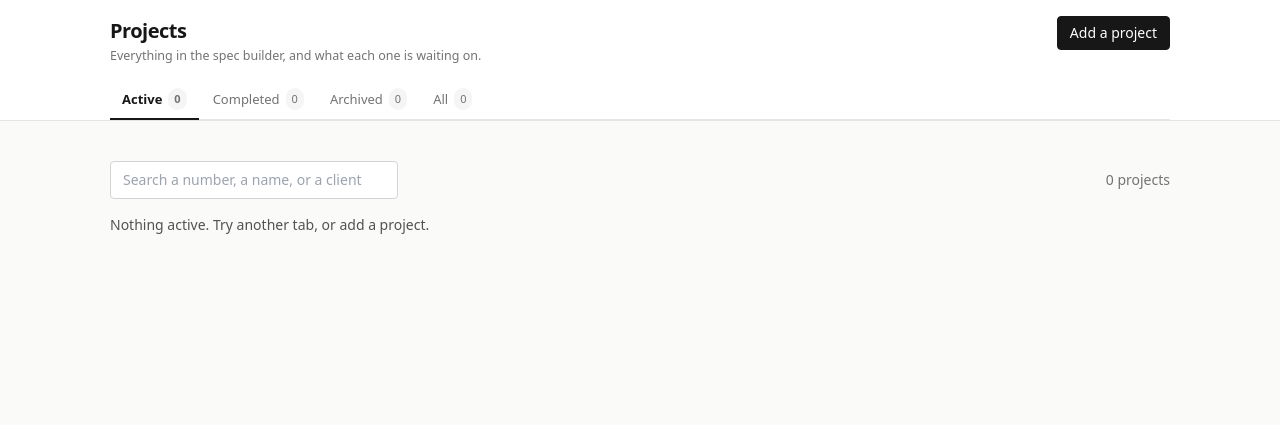
Add project › goes to the new project's page, where its pack is uploaded
The width and height of the screenshot is (1280, 425).
Click the button "Add a project" at (1113, 33), box [1057,16,1170,50]
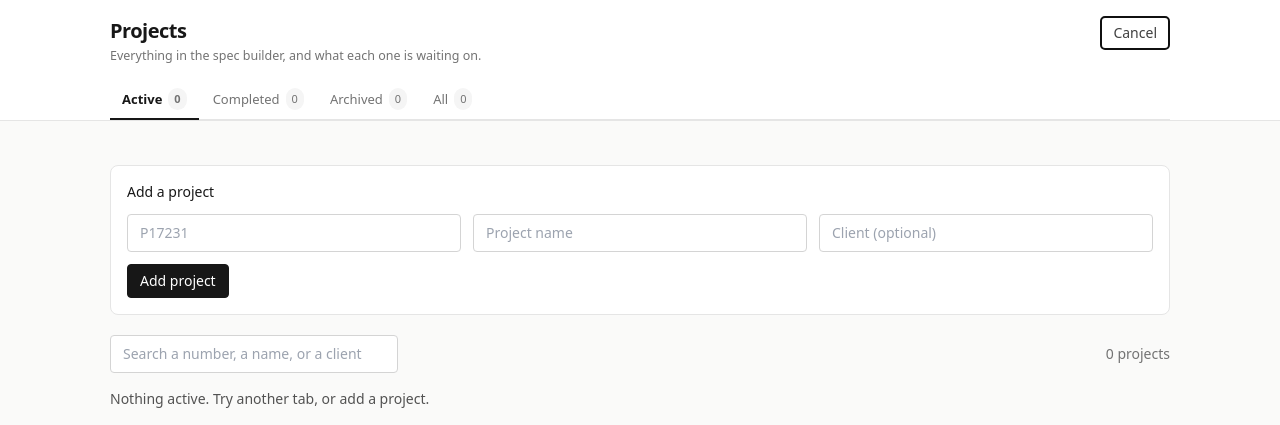
Type "P90300" into the field named "BWS project number" at (294, 233), box [127,214,461,252]
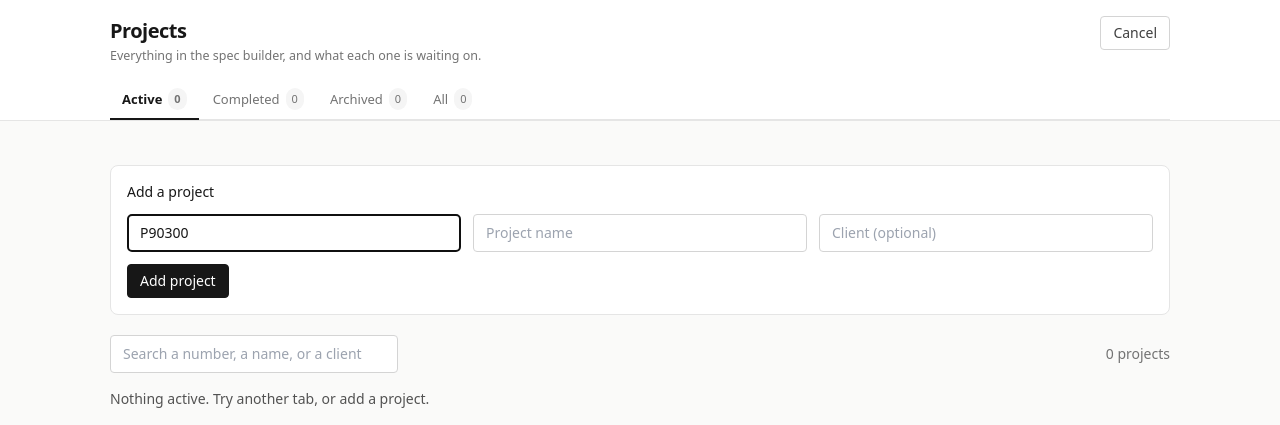
Type "Invented hotel" into the field labelled "Project name" at (640, 233), box [473,214,807,252]
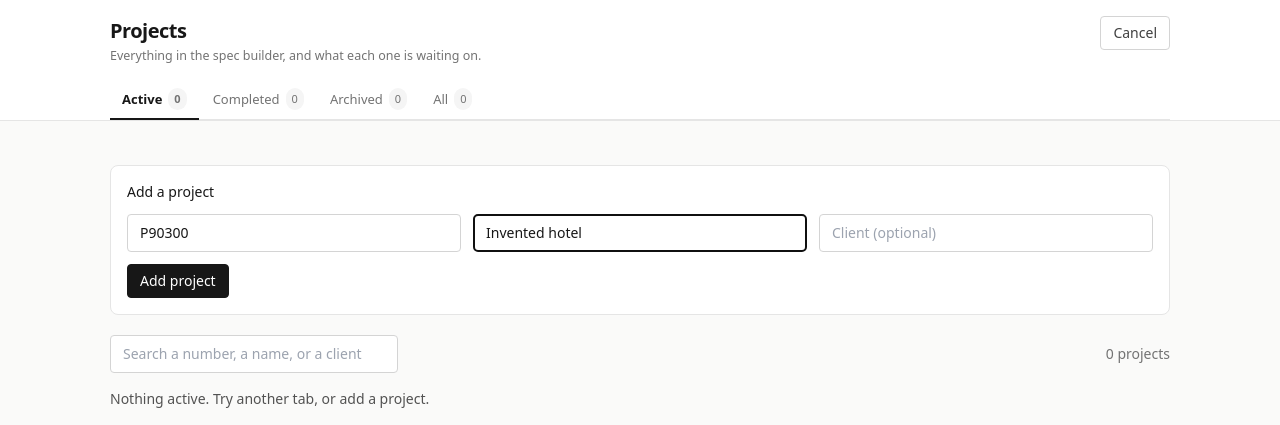
Click the button "Add project" at (178, 281), box [127,264,229,298]
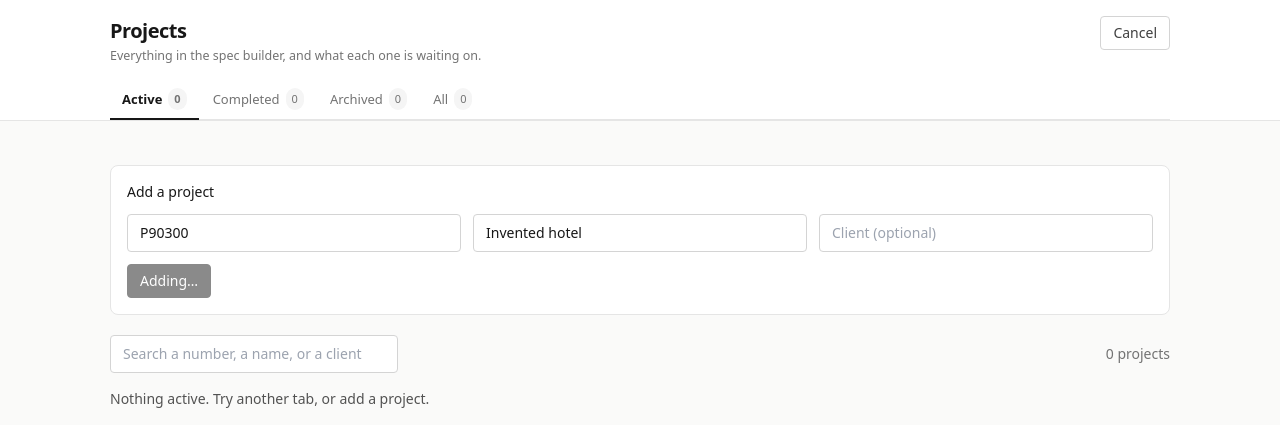
Check: the button "Adding…" is disabled, box [127,264,211,298]
